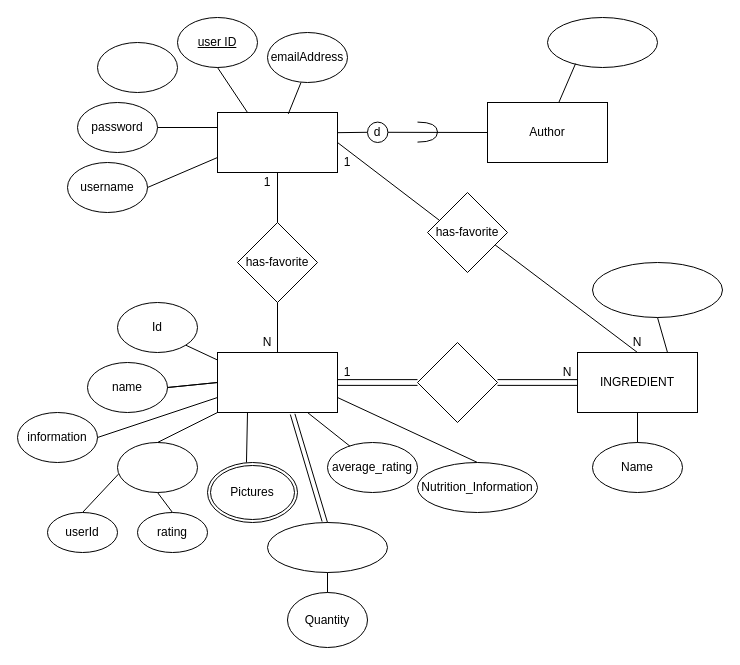
Some shapes in this 740 by 665 pixel diagram are drawn without their labels. The box of each missing label's shape, as (x1, y1, x2, y2) in pixels:
has-a: (416, 342, 498, 422)
list_of_Ingredients: (266, 522, 388, 572)
profile picture: (96, 42, 178, 92)
Published_recipes: (546, 16, 658, 68)
ratings: (116, 442, 198, 492)
RECEIPE: (216, 352, 338, 412)
UnitOfMeasurement: (592, 262, 722, 318)
USER: (216, 112, 338, 172)
